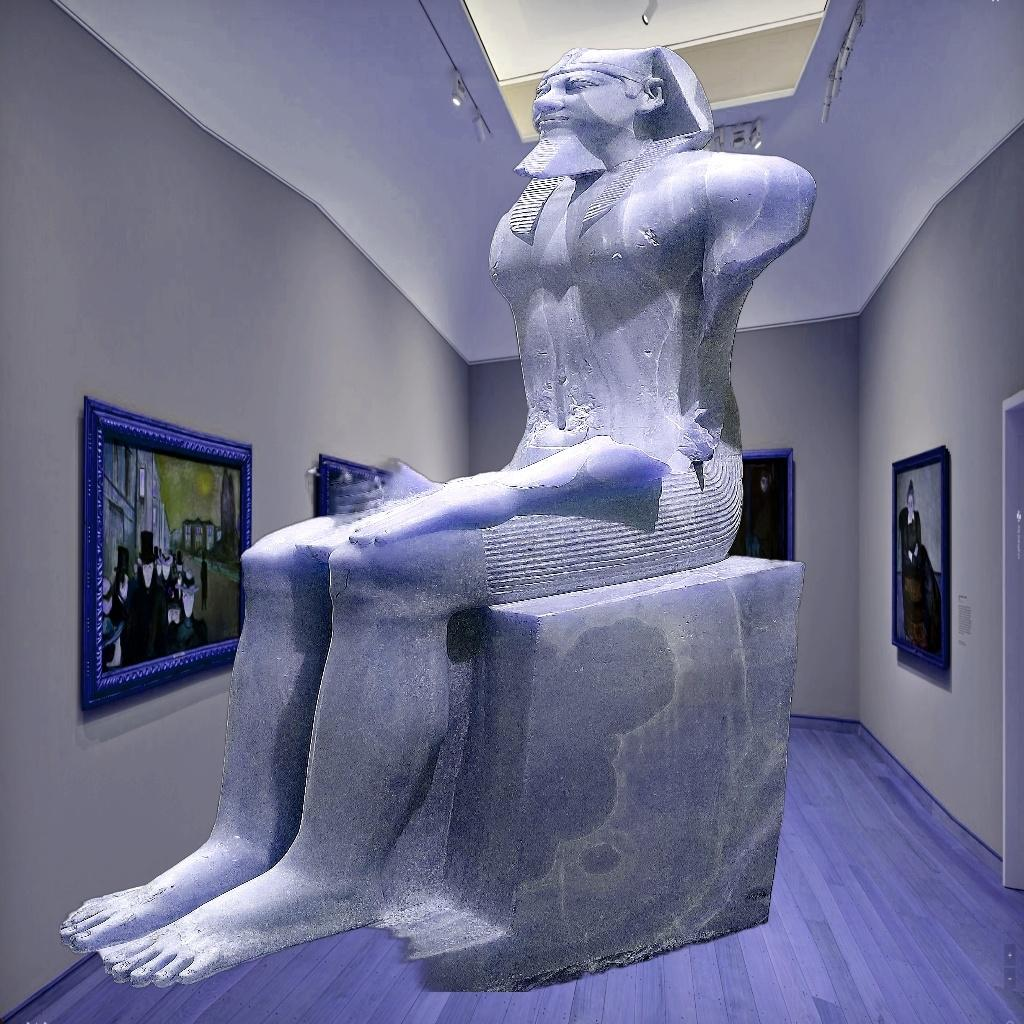Menkaure Statue: (58, 42, 819, 992)
